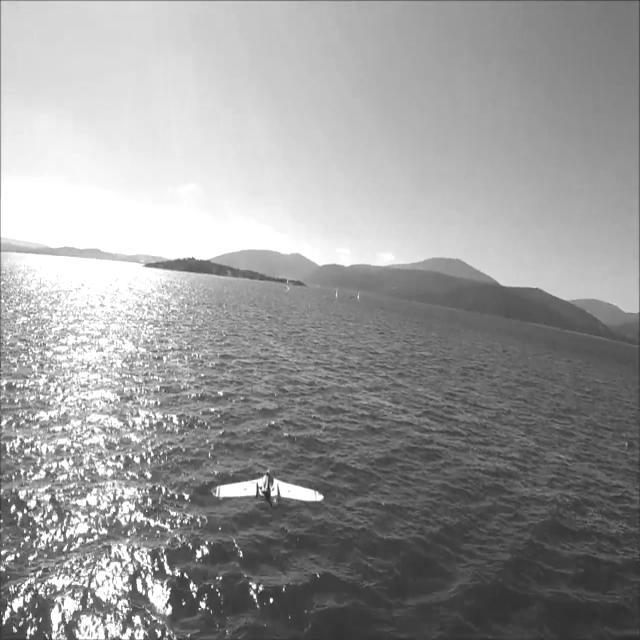iha: (235, 456, 288, 517)
